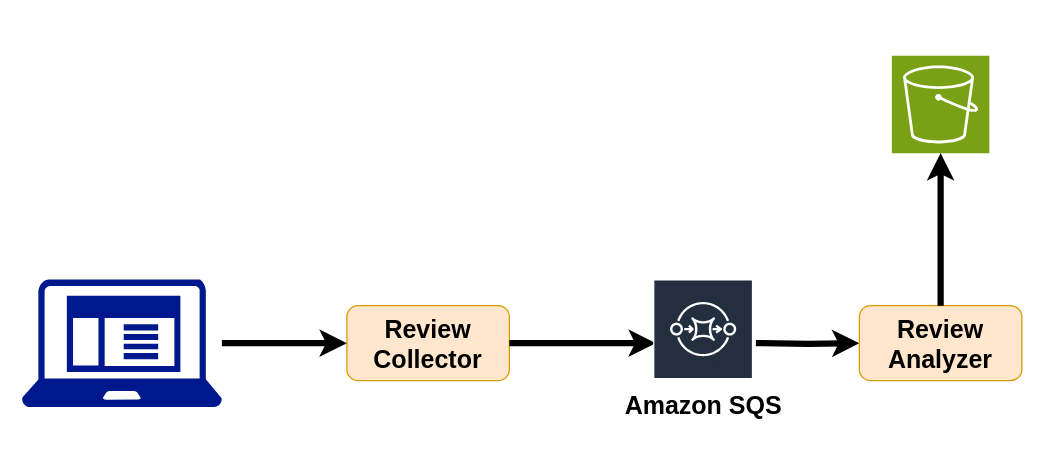
This 1044x468 diagram has some shape labels left out. The shapes that lost their labels are listed below. From the top down, each one's box as (x1, y1, x2, y2) in pixels, then its label:
(891, 54, 989, 153): S3 Bucket
(21, 278, 221, 407): Frontend
